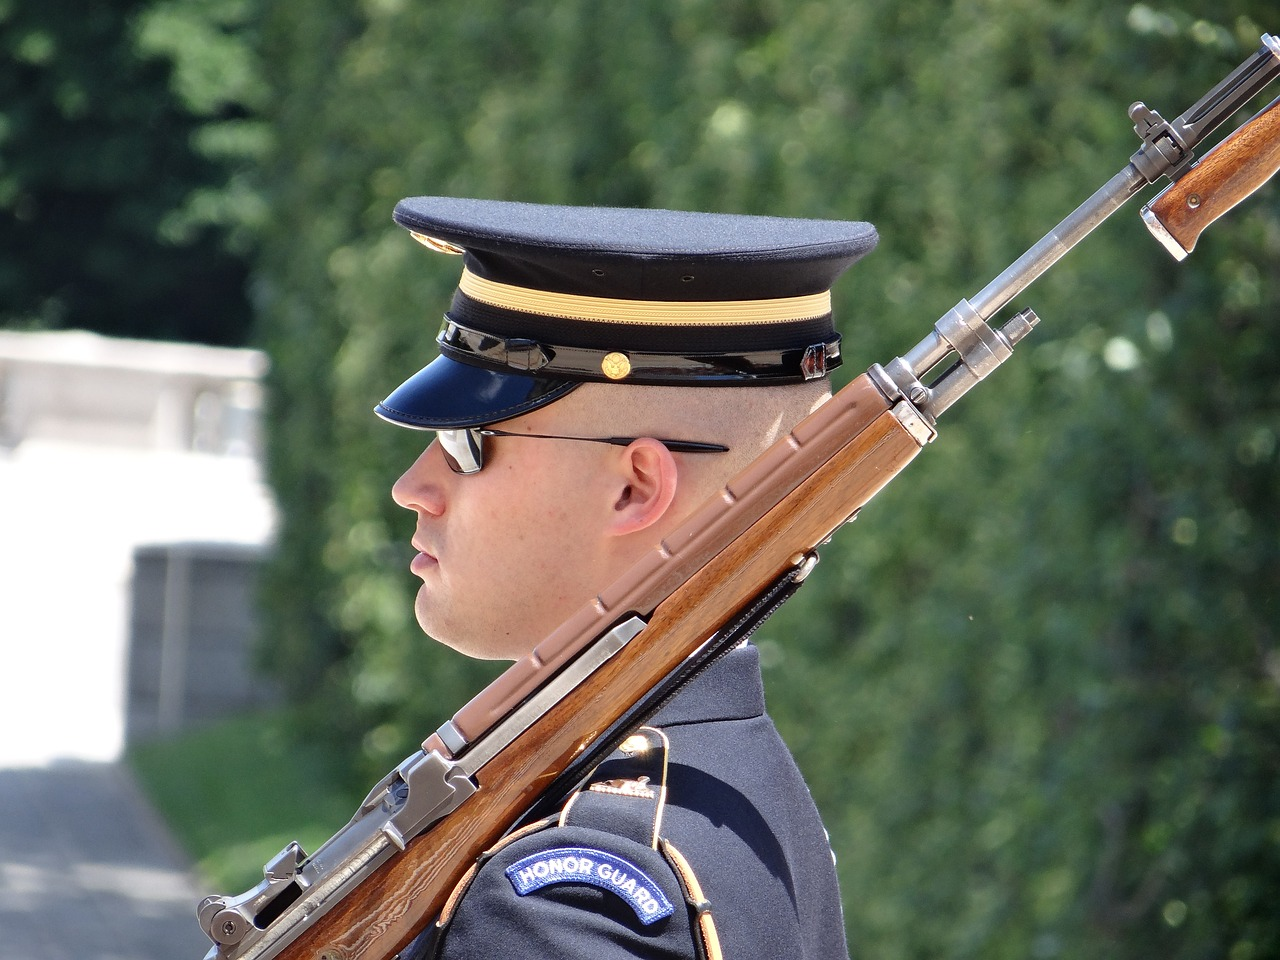gun: (190, 23, 1278, 960)
